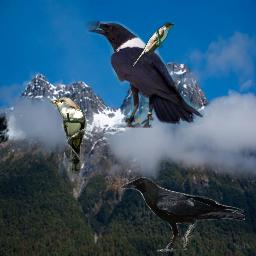Crow: (86, 21, 204, 128), (120, 176, 245, 252)
Cuckoo: (50, 97, 87, 174), (132, 22, 174, 67)
